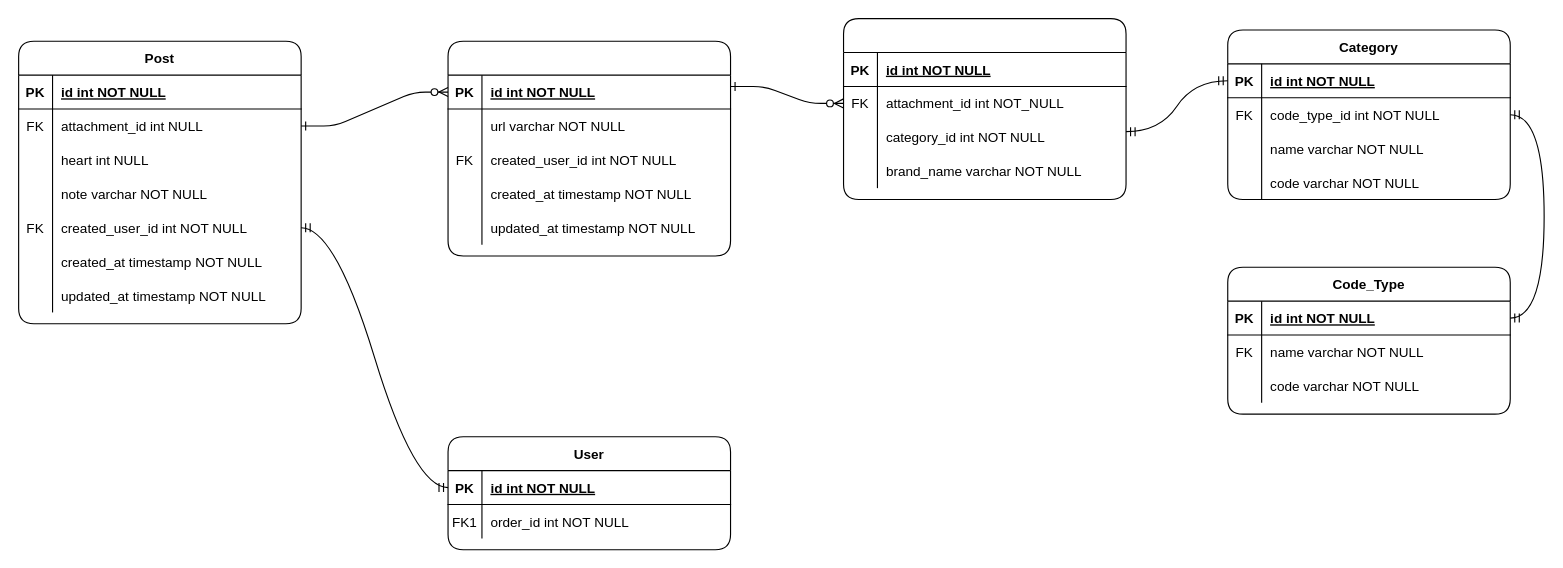
The diagram is 1563 pixels wide and 568 high, and some of its shapes have lost their labels. The box of each missing label's shape, as (x1, y1, x2, y2) in pixels:
Attachment: (447, 40, 731, 256)
Outfit: (842, 18, 1126, 199)
